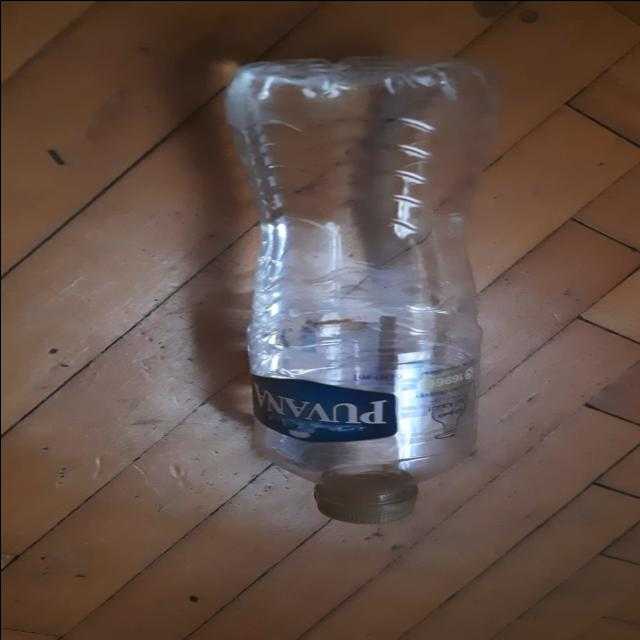Plastic: (222, 49, 500, 523)
